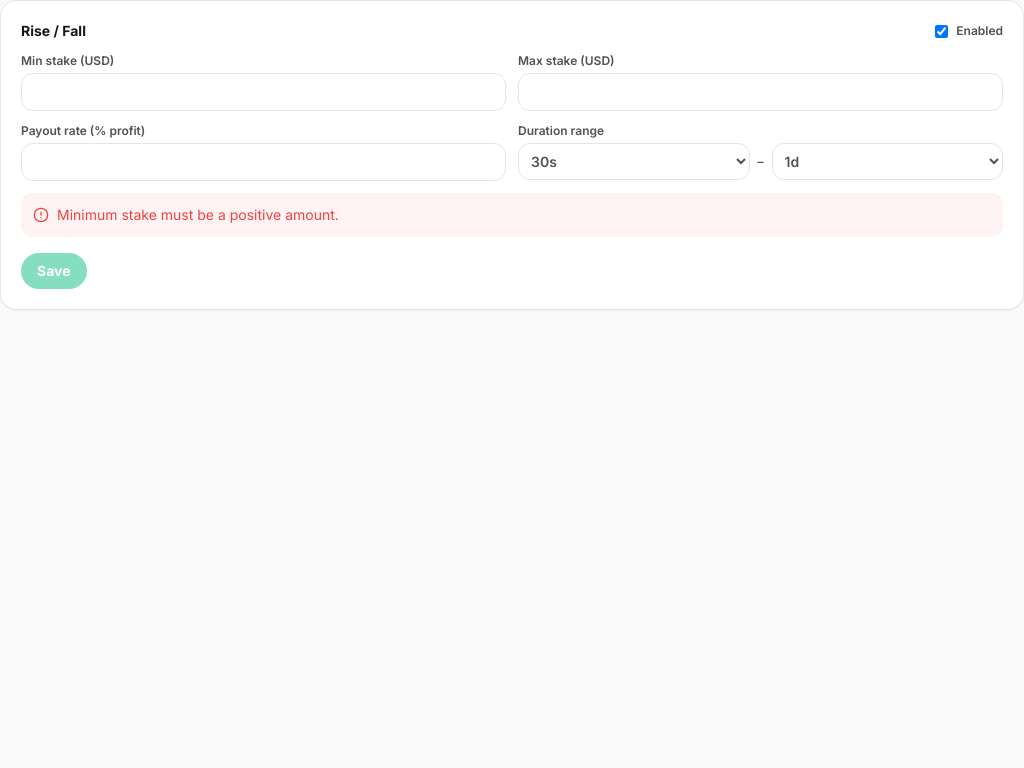
Test case: BettingConfigForm › never saves on the first click — a confirmation dialog gates the real-money odds/limits change
Type "10" into the field labelled "Min stake (USD)" at x=264, y=92, box [21, 73, 506, 111]
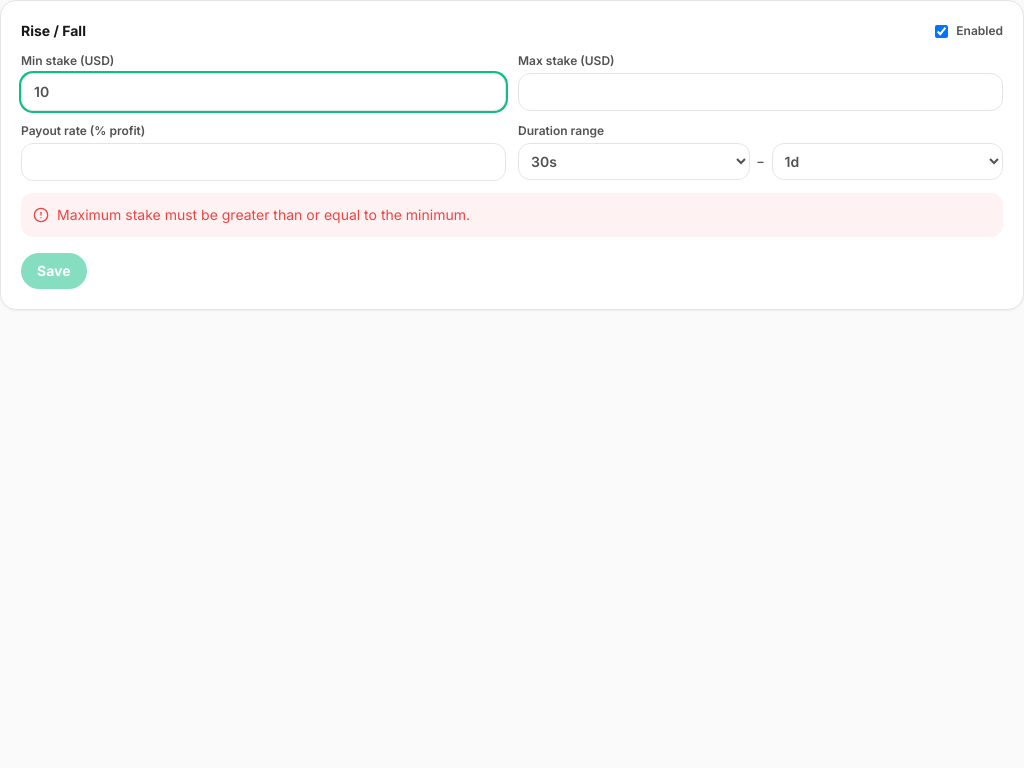
Type "1000" into the field labelled "Max stake (USD)" at x=760, y=92, box [518, 73, 1003, 111]
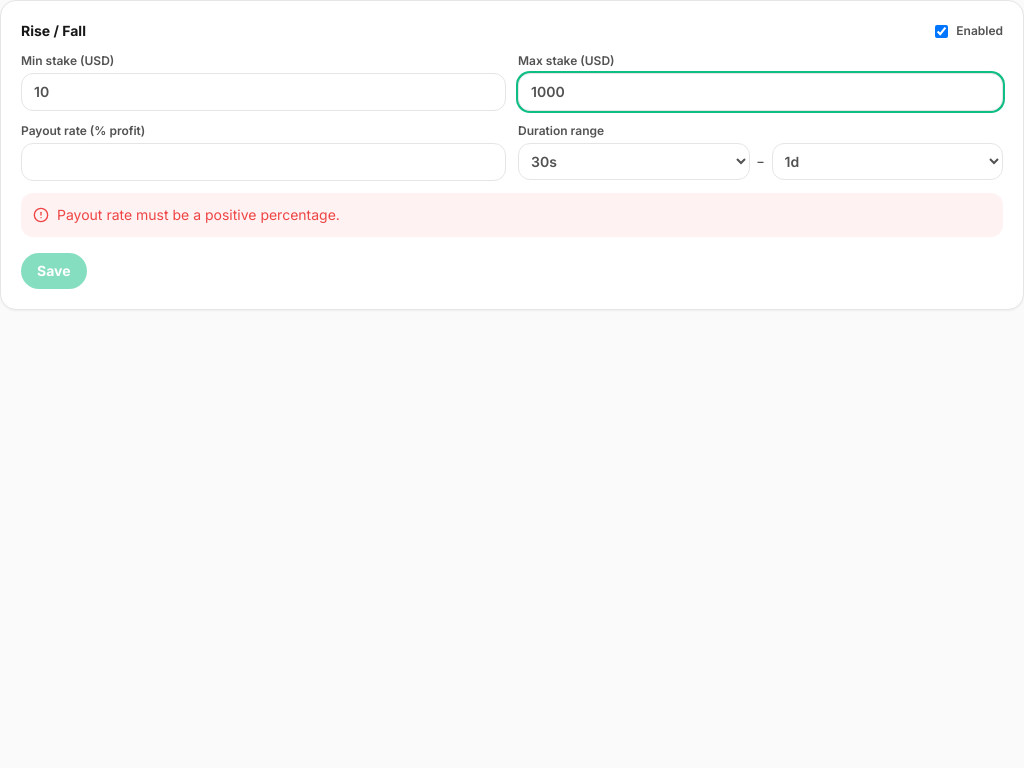
Type "85" into the field labelled "Payout rate (% profit)" at x=264, y=162, box [21, 143, 506, 181]
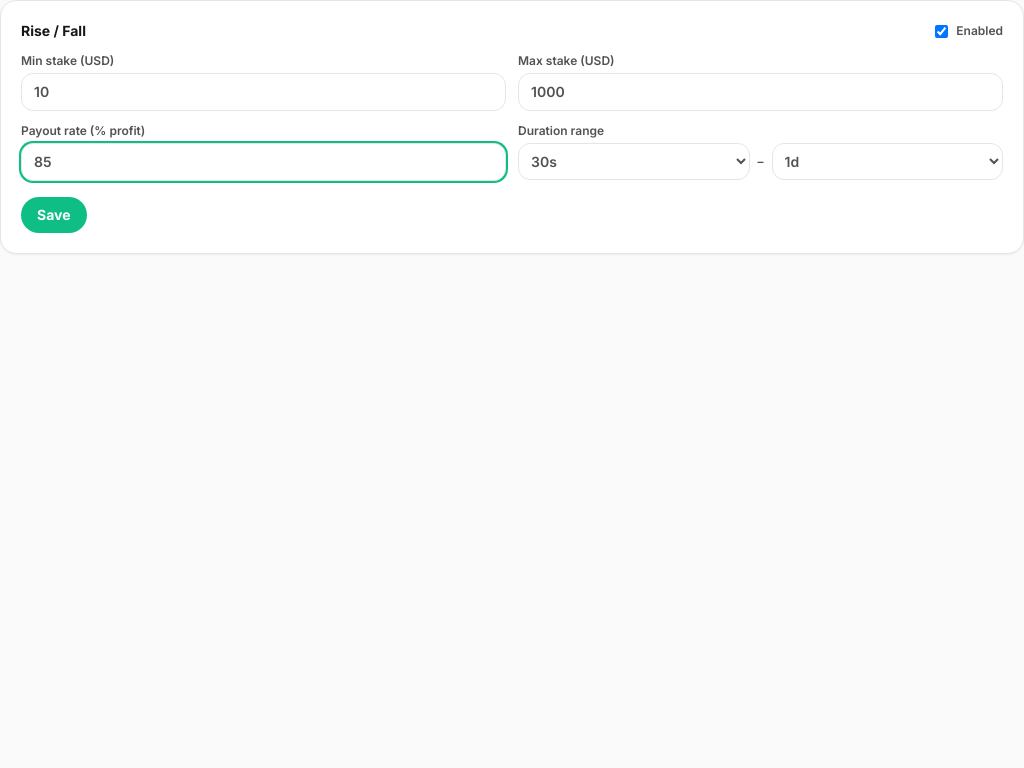
Click the button "Save" at x=54, y=215, box [21, 197, 86, 233]
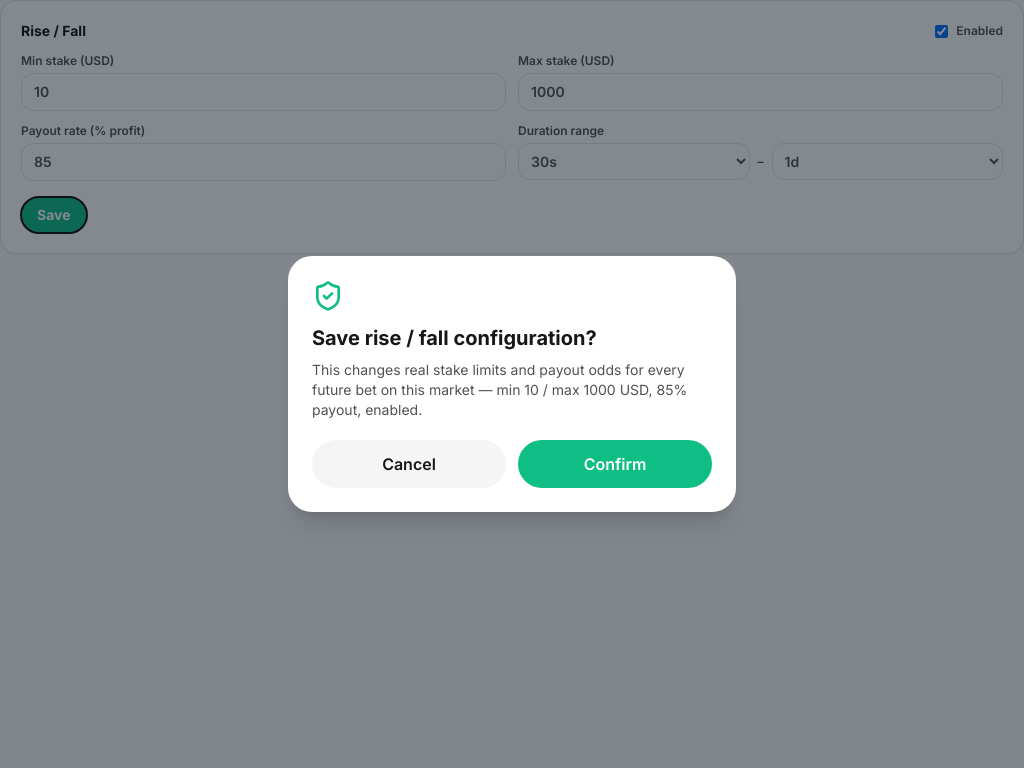
Expected: the dialog is shown
